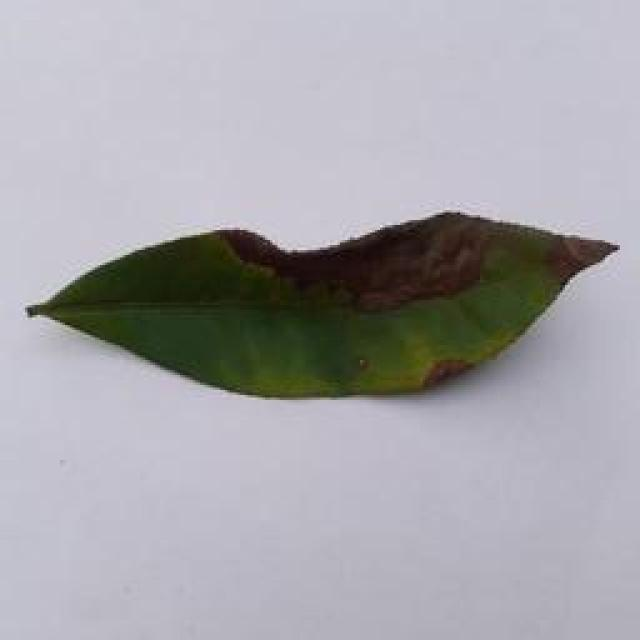Brown Blight: (24, 201, 625, 420)
